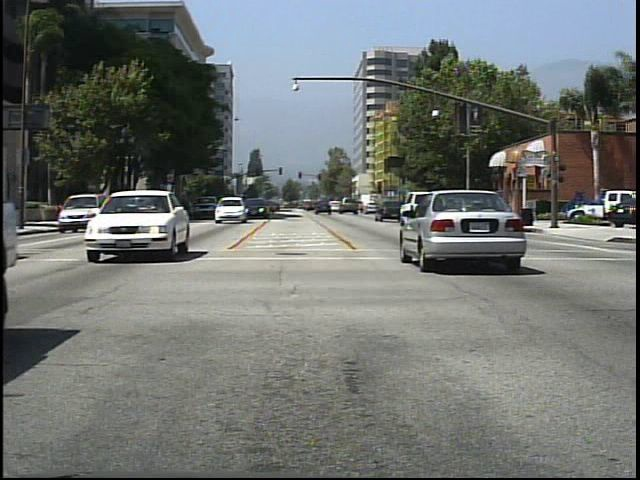person: (492, 192, 511, 229), (452, 193, 469, 228)
